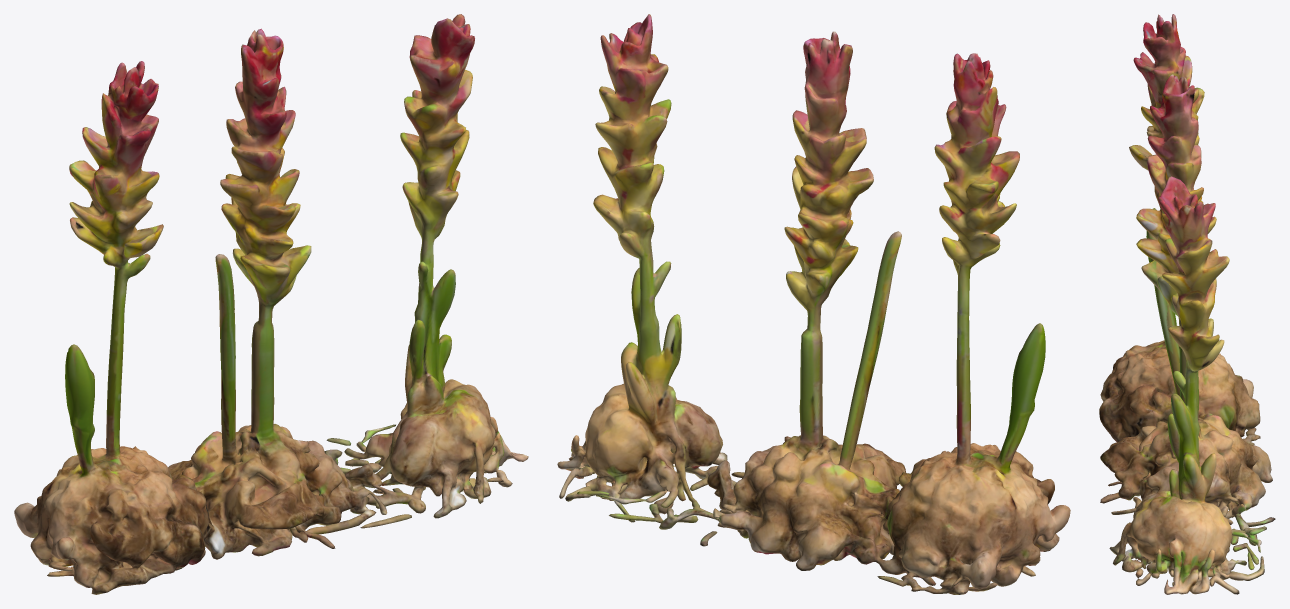
File: herb0053.gltf
3 renders of one model, left to right at view 1: azimuth 30°, elevation 25°; view 2: azimuth 150°, elevation 25°; view 3: azimuth 270°, elevation 25°, orthographic. The views are drawn at different scales.
Parts seen in each view (by area): view 1: Mesh_0.020; view 2: Mesh_0.020; view 3: Mesh_0.020.
Part boxes in pixels (x1,y1,x2,y2): Mesh_0.020: [14, 14, 528, 594]; Mesh_0.020: [557, 14, 1070, 594]; Mesh_0.020: [1099, 14, 1275, 594].
Bounding box in the file's own units: 1.99 × 1.99 × 0.7425.
1 material, 1 textured.
